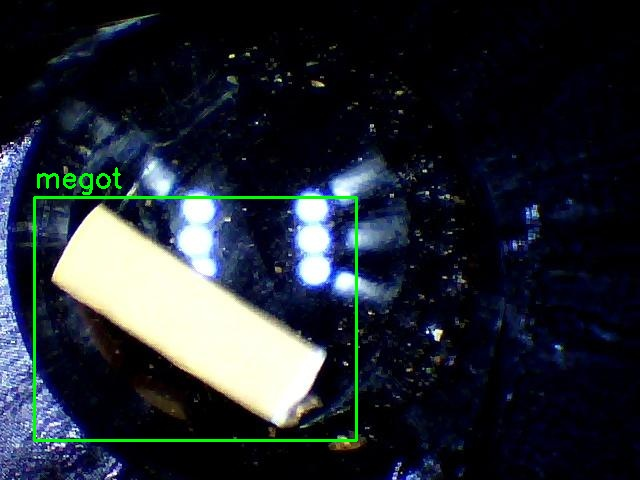megot: (34, 197, 356, 440)
